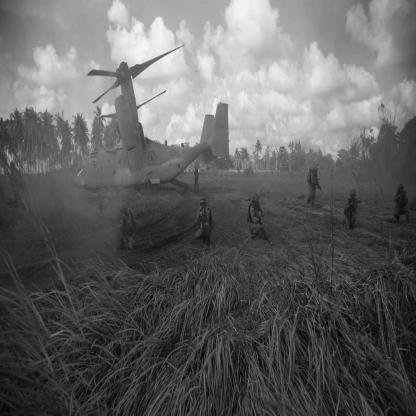V22: (75, 45, 232, 190)
